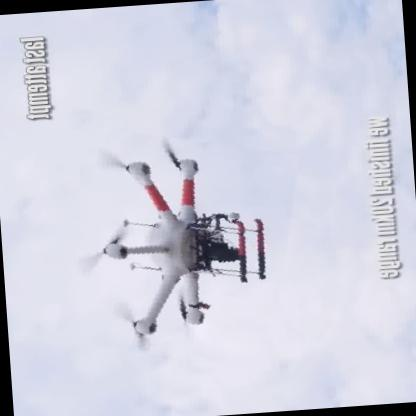drone: (52, 120, 304, 374)
